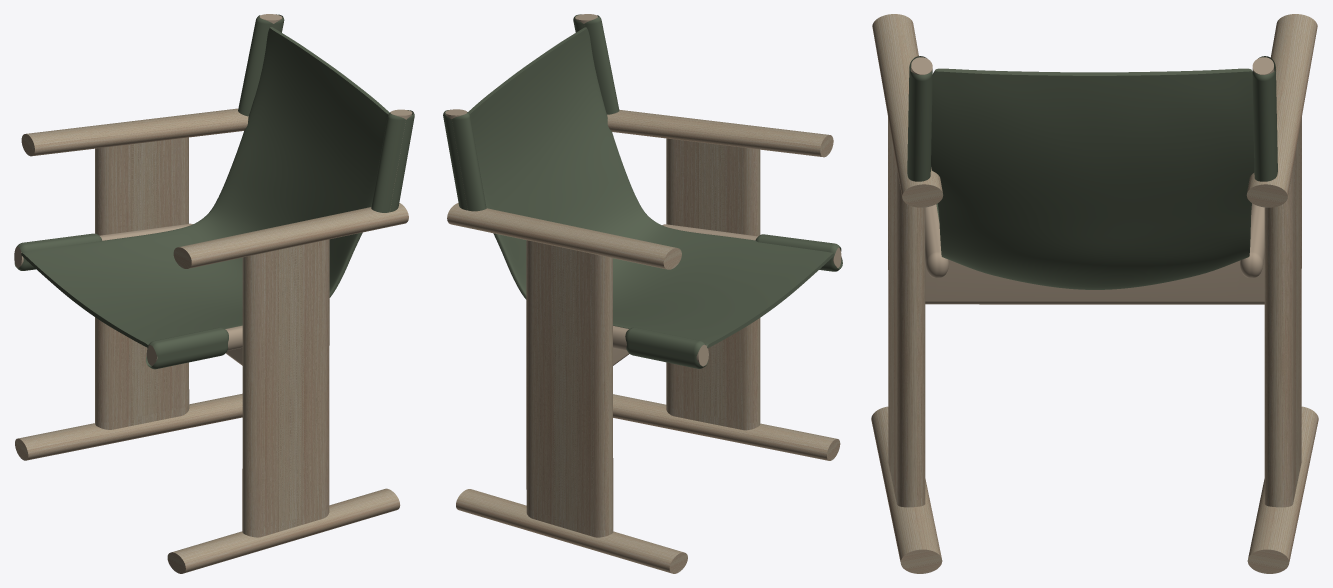
The model's file is movie10.glb.
The picture shows the model from 3 angles, left to right: view 1: azimuth 30°, elevation 25°; view 2: azimuth 150°, elevation 25°; view 3: azimuth 270°, elevation 25°; orthographic projection. The views are drawn at different scales.
Parts seen in each view (by area): view 1: 030, Cylinder7567, Cylinder7568, Cylinder7569, Cylinder7571, Cylinder7573, Cylinder7572, ChamferBox3539, ChamferBox3538, ChamferBox3540, ChamferBox3537, ChamferBox3517 (+1 smaller); view 2: 030, Cylinder7568, Cylinder7567, Cylinder7571, Cylinder7569, Cylinder7572, Cylinder7573, ChamferBox3540, ChamferBox3537, ChamferBox3539, ChamferBox3538, ChamferBox3518 (+1 smaller); view 3: 030, Cylinder7567, Cylinder7568, Cylinder7570, Cylinder7571, Cylinder7569, Cylinder7572, Cylinder7573, ChamferBox3539, ChamferBox3540, ChamferBox3518, ChamferBox3517.
Boxes of the visible parts, x1,y1,x2,y2 form: 030: (21, 27, 389, 347); Cylinder7567: (242, 239, 329, 537); Cylinder7568: (95, 137, 189, 429); Cylinder7569: (173, 203, 408, 268); Cylinder7571: (21, 108, 248, 156); Cylinder7573: (167, 488, 400, 573); Cylinder7572: (15, 393, 242, 460); ChamferBox3539: (371, 110, 414, 212); ChamferBox3538: (146, 327, 228, 369); ChamferBox3540: (238, 14, 284, 116); ChamferBox3537: (14, 233, 101, 270); ChamferBox3517: (14, 223, 192, 268); 030: (468, 27, 833, 348); Cylinder7568: (526, 240, 613, 537); Cylinder7567: (666, 138, 760, 430); Cylinder7571: (447, 203, 681, 269); Cylinder7569: (607, 110, 833, 157); Cylinder7572: (456, 489, 687, 573); Cylinder7573: (613, 394, 840, 460); ChamferBox3540: (443, 109, 486, 211); ChamferBox3537: (625, 327, 708, 368); ChamferBox3539: (573, 14, 619, 114); ChamferBox3538: (755, 234, 842, 271); ChamferBox3518: (662, 224, 841, 267); 030: (931, 68, 1254, 289); Cylinder7567: (888, 117, 925, 507); Cylinder7568: (1264, 117, 1301, 507); Cylinder7570: (925, 256, 1264, 304); Cylinder7571: (1246, 14, 1317, 207); Cylinder7569: (872, 14, 943, 207); Cylinder7572: (1247, 406, 1318, 573); Cylinder7573: (871, 406, 942, 573); ChamferBox3539: (907, 56, 932, 181); ChamferBox3540: (1252, 56, 1277, 181); ChamferBox3518: (925, 204, 948, 277); ChamferBox3517: (1240, 203, 1264, 277).
Bounding box in the file's own units: 0.5621 × 0.7984 × 0.6247.
Materials: 2 (2 with a texture image).
